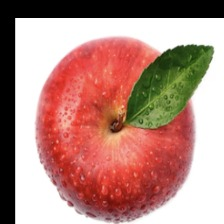apple: (19, 5, 217, 202)
